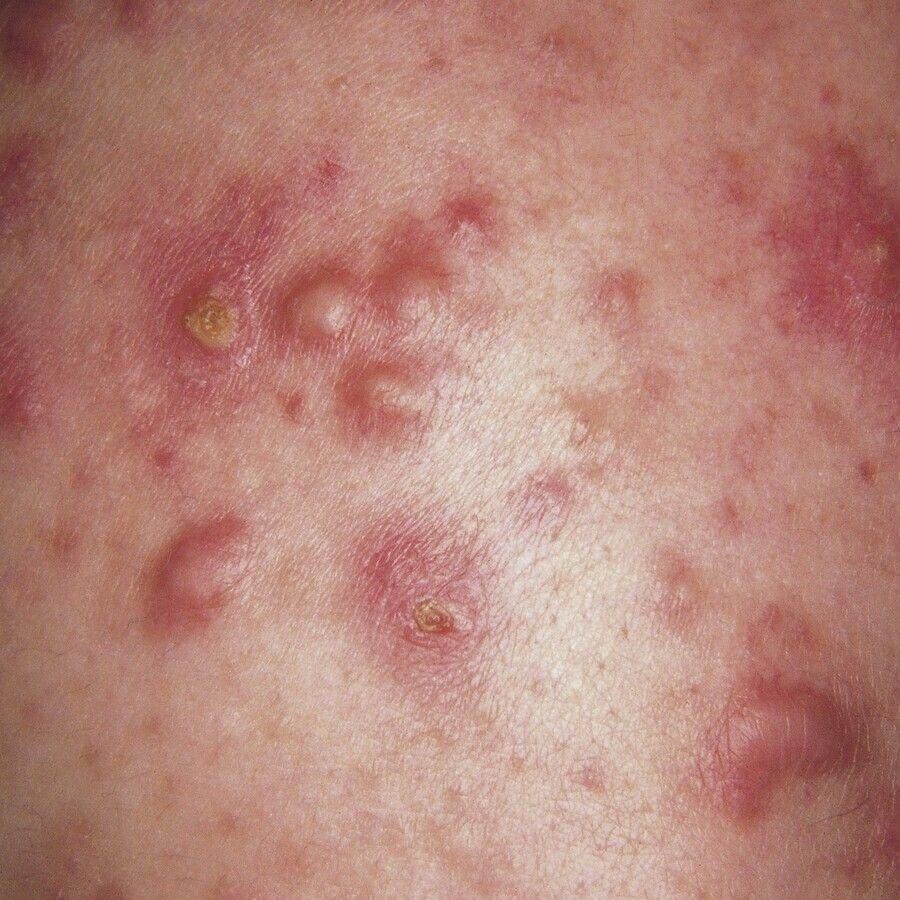cystic: (278, 250, 463, 451), (692, 668, 859, 834), (138, 521, 263, 634)
papular: (455, 208, 514, 269)
purulent: (830, 199, 895, 290)
sebo-crystan-conglo: (175, 238, 255, 410)
